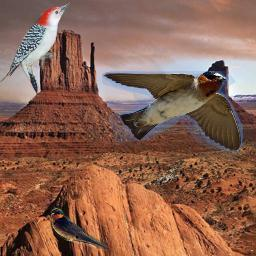Swallow: (102, 71, 243, 152), (50, 207, 108, 249)
Woodpecker: (0, 2, 73, 97)
